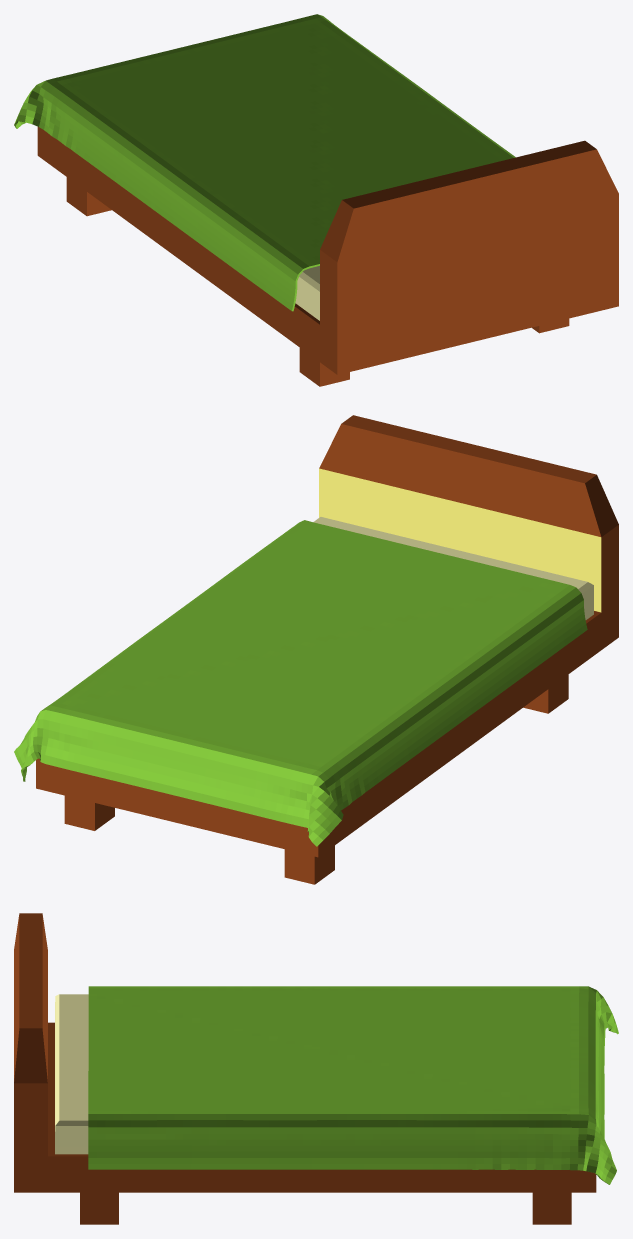
Rendered from Bed 5.fbx.
3 views of the same model, one above another, from view 1: azimuth 30°, elevation 25°; view 2: azimuth 150°, elevation 25°; view 3: azimuth 270°, elevation 25° (orthographic). The views are drawn at different scales.
Parts seen in each view (by area): view 1: Node 0; view 2: Node 0; view 3: Node 0.
Part boxes in pixels (x1,y1,x2,y2): Node 0: (14,14,618,386); Node 0: (14,415,618,884); Node 0: (14,913,618,1224).
Size of the model in its own units: 3.01 by 1.07 by 1.82.
